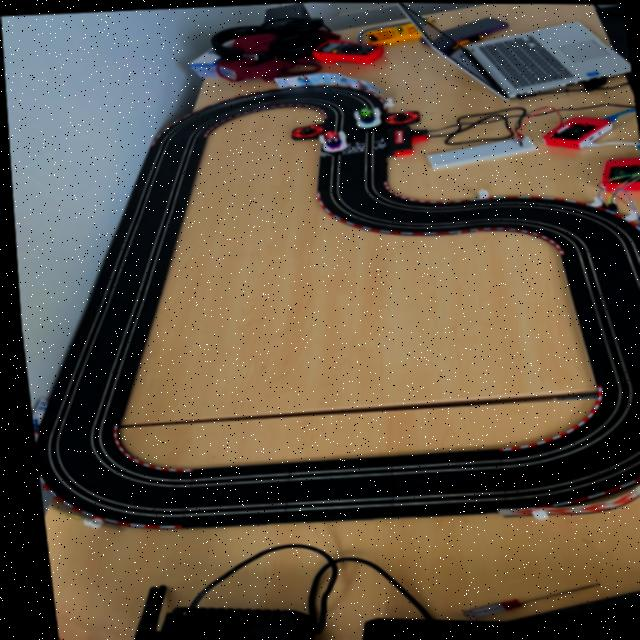mario: (313, 129, 350, 154)
yoshi: (350, 105, 384, 130)
